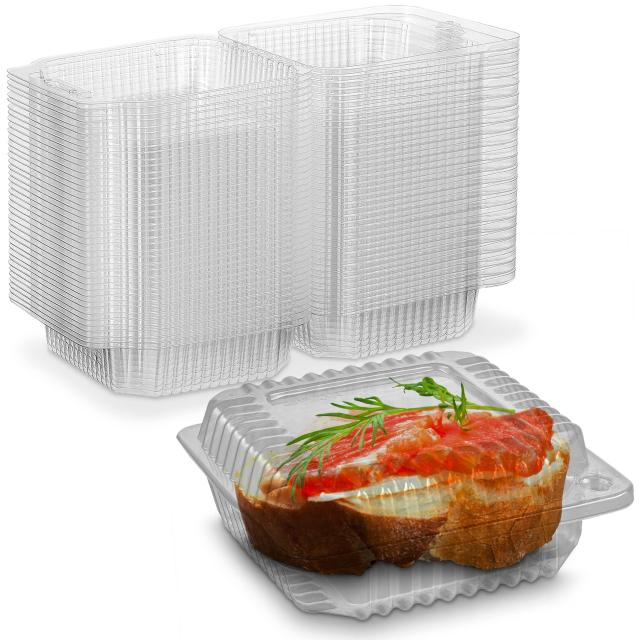plastic_box: (23, 26, 521, 370), (166, 336, 638, 622)
